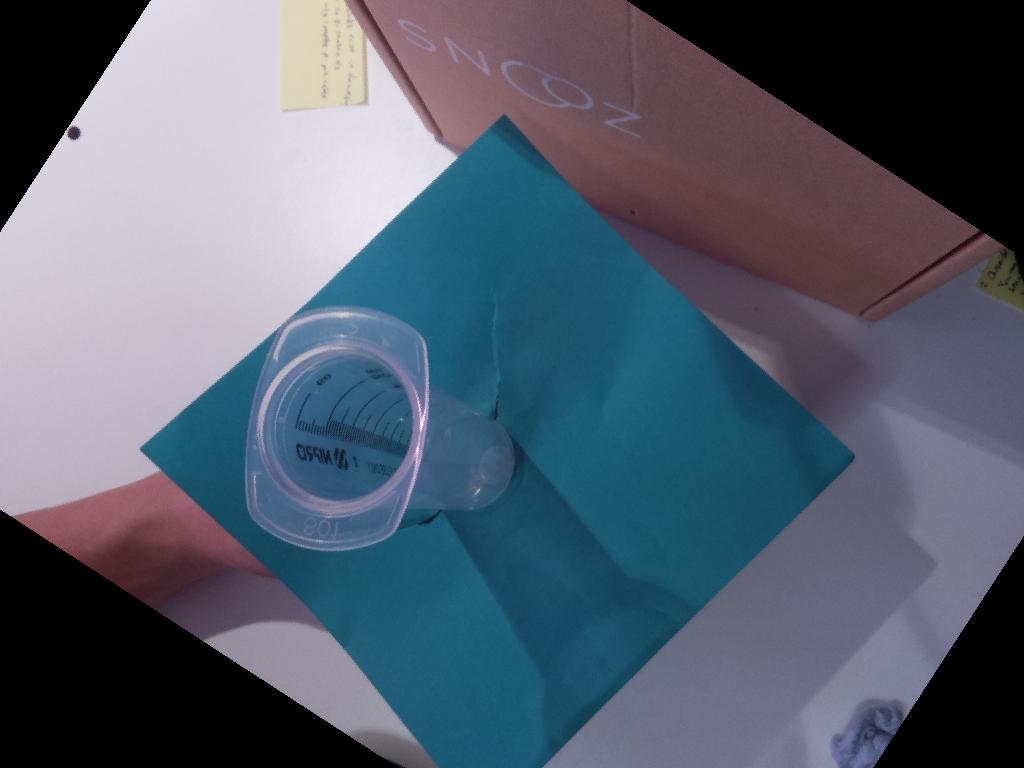clean: (246, 306, 432, 547)
